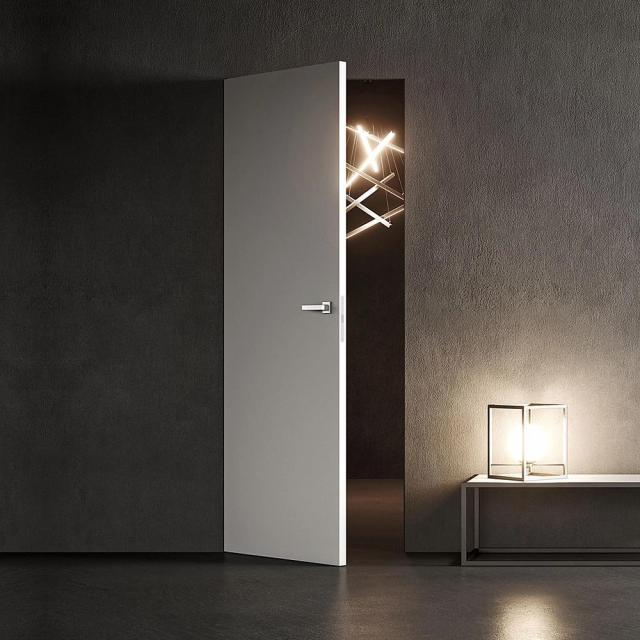semi-open: (220, 54, 418, 572)
